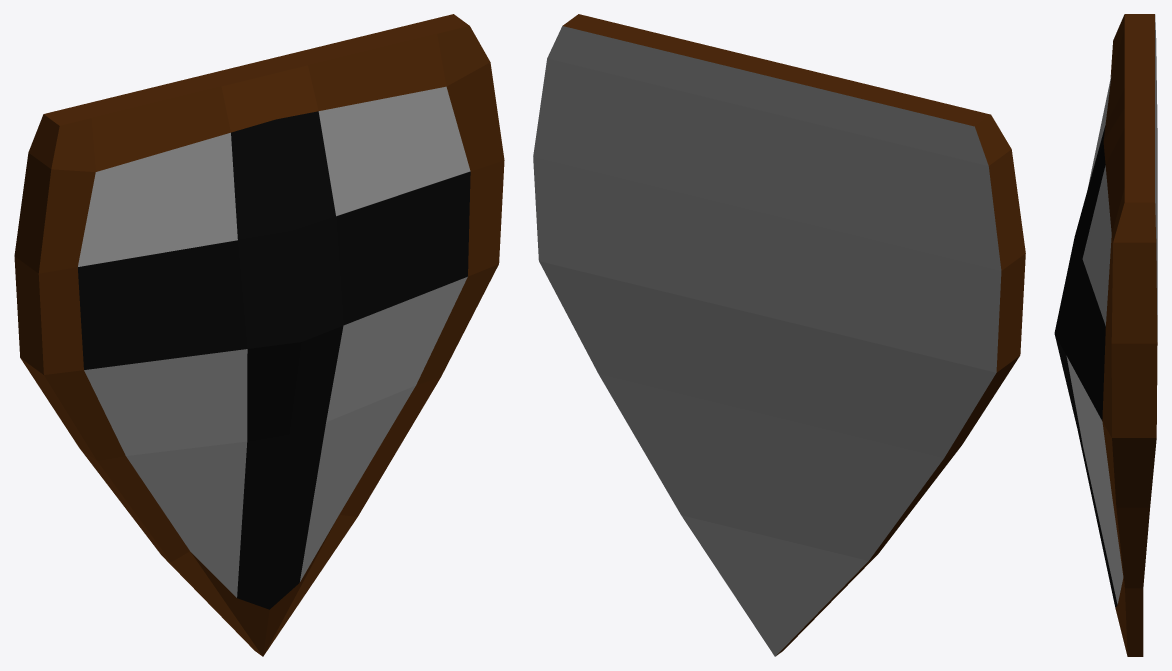
File: shield_kite_cross.obj
3 renders of one model, left to right at view 1: azimuth 30°, elevation 25°; view 2: azimuth 150°, elevation 25°; view 3: azimuth 270°, elevation 25°, orthographic. The views are drawn at different scales.
Visible parts, largest first — view 1: shield_kite_cross_Cube.054; view 2: shield_kite_cross_Cube.054; view 3: shield_kite_cross_Cube.054.
Part boxes in pixels (box(x1,y1,x2,y2)): shield_kite_cross_Cube.054: box(14, 14, 504, 656); shield_kite_cross_Cube.054: box(533, 14, 1025, 656); shield_kite_cross_Cube.054: box(1054, 14, 1157, 656).
Size of the model in its own units: 0.194 by 0.2317 by 0.0394.
